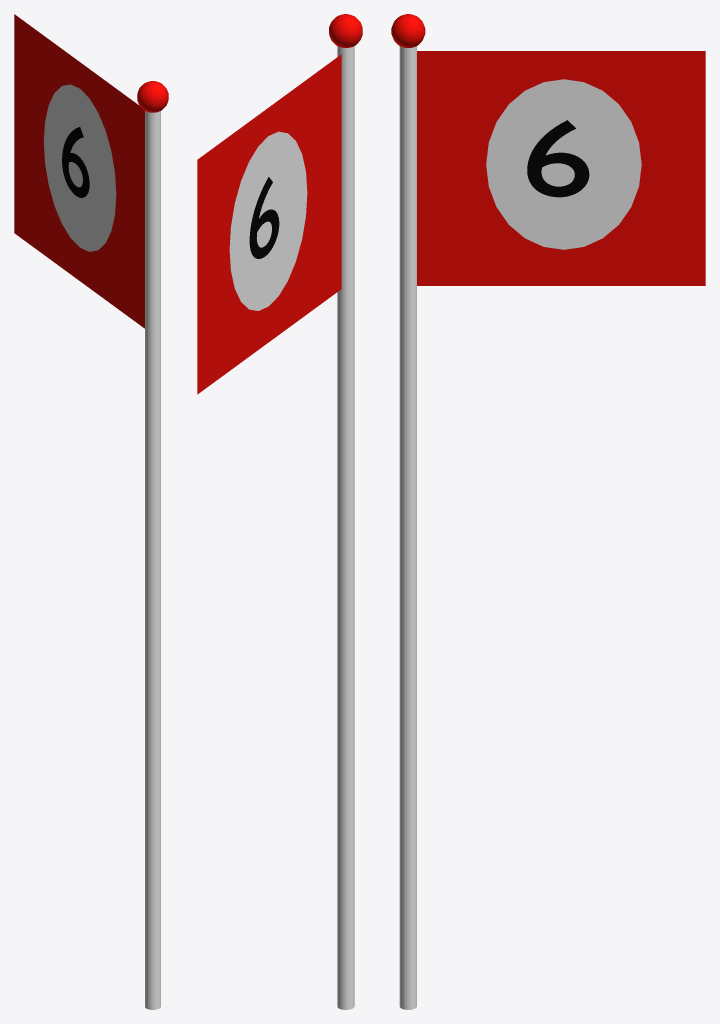
Rendered from flag6.fbx.
The picture shows the model from 3 angles, left to right: view 1: azimuth 30°, elevation 25°; view 2: azimuth 150°, elevation 25°; view 3: azimuth 270°, elevation 25°; orthographic projection. The views are drawn at different scales.
Visible parts, largest first — view 1: Cube, Cylinder.005, Circle.005, 1.010, Sphere.005; view 2: Cube, Cylinder.005, Circle.005, 1.010, Sphere.005; view 3: Cube, Circle.005, Cylinder.005, 1.011, Sphere.005.
Boxes of the visible parts, x1=… form: Cube: x1=14, y1=14, x2=144, y2=328; Cylinder.005: x1=145, y1=111, x2=160, y2=1009; Circle.005: x1=43, y1=84, x2=116, y2=251; 1.010: x1=62, y1=127, x2=89, y2=197; Sphere.005: x1=137, y1=81, x2=168, y2=112; Cube: x1=197, y1=54, x2=341, y2=394; Cylinder.005: x1=337, y1=46, x2=354, y2=1009; Circle.005: x1=229, y1=131, x2=307, y2=310; 1.010: x1=249, y1=177, x2=279, y2=258; Sphere.005: x1=329, y1=14, x2=362, y2=47; Cube: x1=417, y1=51, x2=705, y2=285; Circle.005: x1=486, y1=79, x2=641, y2=249; Cylinder.005: x1=399, y1=46, x2=416, y2=1009; 1.011: x1=527, y1=120, x2=589, y2=197; Sphere.005: x1=391, y1=14, x2=425, y2=47.
Bounding box in the file's own units: 3.94 × 127 × 36.37.
